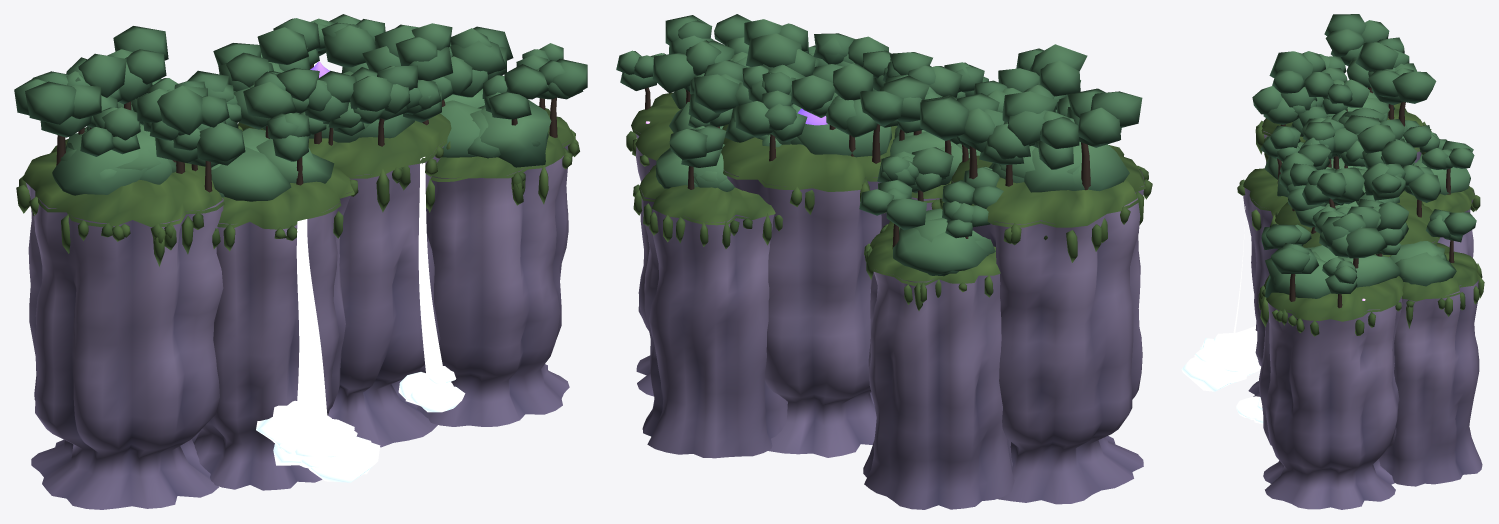
The model's file is lowisle.glb.
The picture shows the model from 3 angles, left to right: view 1: azimuth 30°, elevation 25°; view 2: azimuth 150°, elevation 25°; view 3: azimuth 270°, elevation 25°; orthographic projection. The views are drawn at different scales.
Parts seen in each view (by area): view 1: hero_valley_rock, hero_valley_leaf, hero_valley_moss, valley_spray, valley_falls, hero_valley_bark; view 2: hero_valley_rock, hero_valley_leaf, hero_valley_moss, hero_valley_bark; view 3: hero_valley_leaf, hero_valley_rock, hero_valley_moss, valley_spray, hero_valley_bark.
Part boxes in pixels (left/top/right/bottom): hero_valley_rock: left=26, top=139, right=571, bottom=509; hero_valley_leaf: left=14, top=14, right=587, bottom=201; hero_valley_moss: left=16, top=106, right=579, bottom=266; valley_spray: left=256, top=366, right=465, bottom=482; valley_falls: left=296, top=157, right=443, bottom=423; hero_valley_bark: left=56, top=64, right=557, bottom=192; hero_valley_rock: left=636, top=132, right=1144, bottom=509; hero_valley_leaf: left=616, top=14, right=1142, bottom=276; hero_valley_moss: left=626, top=92, right=1152, bottom=310; hero_valley_bark: left=645, top=87, right=1090, bottom=248; hero_valley_leaf: left=1252, top=14, right=1476, bottom=298; hero_valley_rock: left=1243, top=111, right=1482, bottom=509; hero_valley_moss: left=1237, top=103, right=1484, bottom=336; valley_spray: left=1181, top=326, right=1263, bottom=424; hero_valley_bark: left=1277, top=87, right=1454, bottom=308.
Size of the model in its own units: 213 by 153 by 135.
